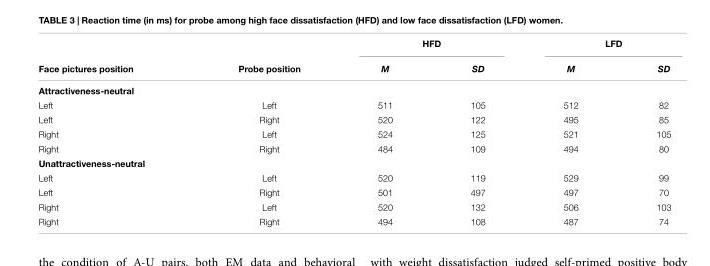table: (37, 37, 670, 226)
table column: (37, 37, 190, 226), (190, 37, 338, 226), (430, 37, 523, 226), (523, 37, 616, 226), (338, 37, 430, 226), (616, 37, 670, 226)
table column header: (37, 37, 670, 78)
table projected row header: (37, 78, 670, 97), (37, 155, 670, 169)
table row: (37, 55, 670, 78), (37, 78, 670, 97), (37, 37, 670, 55), (37, 111, 670, 126), (37, 140, 670, 155), (37, 169, 670, 184), (37, 184, 670, 199), (37, 97, 670, 111), (37, 126, 670, 140), (37, 155, 670, 169), (37, 199, 670, 213), (37, 213, 670, 226)
table spanning cell: (37, 37, 190, 78), (190, 37, 338, 78), (338, 37, 523, 55), (523, 37, 670, 55)
